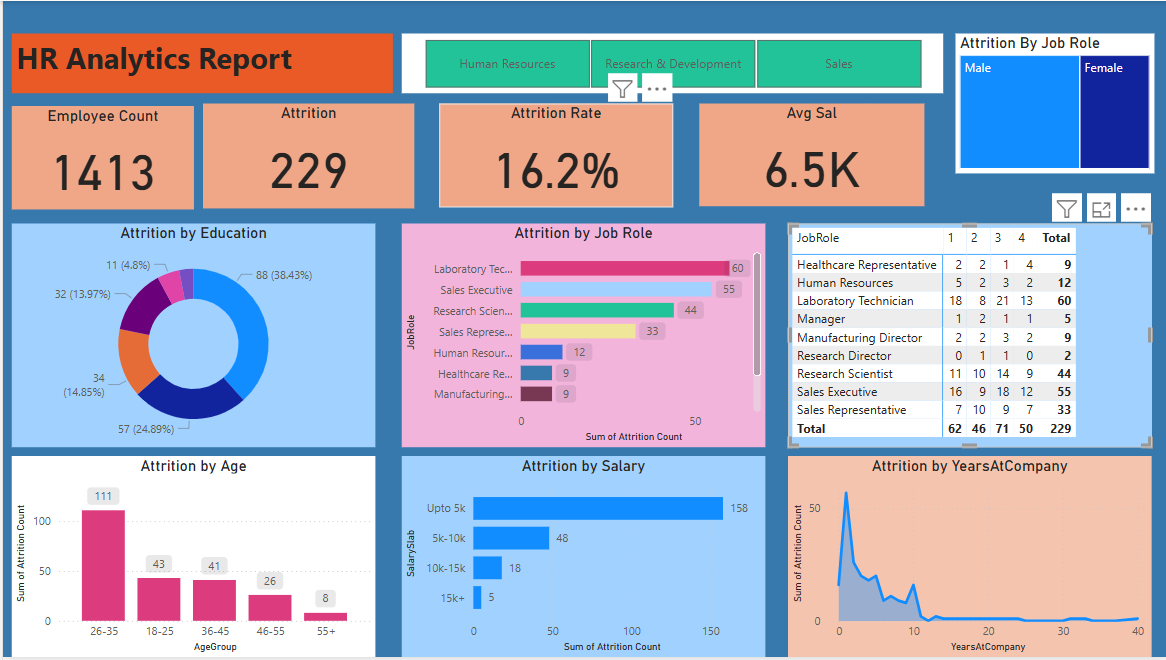

Layout of this report page (visuals, bound fields, positions):
{"tool":"powerbi","page":{"name":"Page 1","canvas":[1280,720],"ordinal":0},"visuals":[{"type":"textbox","box":[9.6,35.7,418.5,65.9],"z":0},{"type":"slicer","fields":{"Values":["HR_Analytics.Department"]},"box":[437.7,35.7,594.2,65.9],"z":1000},{"type":"treemap","title":"Attrition By Job Role","fields":{"Group":["HR_Analytics.Gender"],"Values":["Sum(HR_Analytics.Attrition Count)"]},"box":[1045.6,35.7,218.2,153.7],"z":2000},{"type":"card","title":"Employee Count","fields":{"Values":["Sum(HR_Analytics.EmployeeCount)"]},"box":[9.6,115.3,200.3,113.9],"z":3000},{"type":"card","title":"Attrition ","fields":{"Values":["Sum(HR_Analytics.Attrition Count)"]},"box":[219.6,112.5,231.9,115.3],"z":4000},{"type":"card","title":"Attrition Rate","fields":{"Values":["HR_Analytics.Attrition Rate"]},"box":[478.9,112.5,256.6,113.9],"z":5000},{"type":"card","title":"Avg Sal","fields":{"Values":["Avg(HR_Analytics.MonthlyIncome)"]},"box":[764.3,112.5,247,112.5],"z":6000},{"type":"donutChart","title":"Attrition by Education","fields":{"Y":["Sum(HR_Analytics.Attrition Count)"],"Category":["HR_Analytics.EducationField"]},"box":[9.6,244.3,399.3,245.6],"z":7000},{"type":"barChart","title":"Attrition by Job Role","fields":{"Y":["Sum(HR_Analytics.Attrition Count)"],"Category":["HR_Analytics.JobRole"]},"box":[437.7,244.3,399.3,245.6],"z":8000},{"type":"pivotTable","fields":{"Rows":["HR_Analytics.JobRole"],"Columns":["HR_Analytics.JobSatisfaction"],"Values":["Sum(HR_Analytics.Attrition Count)"]},"box":[861.8,244.3,399.3,245.6],"z":9000},{"type":"columnChart","title":"Attrition by Age","fields":{"Category":["HR_Analytics.AgeGroup"],"Y":["Sum(HR_Analytics.Attrition Count)"]},"box":[9.6,499.5,399.3,220.9],"z":10000},{"type":"clusteredBarChart","title":"Attrition by Salary","fields":{"Category":["HR_Analytics.SalarySlab"],"Y":["Sum(HR_Analytics.Attrition Count)"]},"box":[438,499,399,221],"z":11000},{"type":"areaChart","title":"Attrition by YearsAtCompany","fields":{"Category":["HR_Analytics.YearsAtCompany"],"Y":["Sum(HR_Analytics.Attrition Count)"]},"box":[862,499,399,221],"z":12000}]}

Visuals, with their boxes in screenshot pixels (x1, y1, x2, y2), scaled from the page's 1280x720 canvas onto the 1166x660 screenshot:
textbox: BBox(9, 33, 390, 93)
slicer - HR_Analytics.Department: BBox(399, 33, 940, 93)
"Attrition By Job Role" treemap: BBox(952, 33, 1151, 174)
"Employee Count" card: BBox(9, 106, 191, 210)
"Attrition " card: BBox(200, 103, 411, 209)
"Attrition Rate" card: BBox(436, 103, 670, 208)
"Avg Sal" card: BBox(696, 103, 921, 206)
"Attrition by Education" donutChart: BBox(9, 224, 372, 449)
"Attrition by Job Role" barChart: BBox(399, 224, 762, 449)
pivotTable - HR_Analytics.JobRole x HR_Analytics.JobSatisfaction: BBox(785, 224, 1149, 449)
"Attrition by Age" columnChart: BBox(9, 458, 372, 659)
"Attrition by Salary" clusteredBarChart: BBox(399, 457, 762, 659)
"Attrition by YearsAtCompany" areaChart: BBox(785, 457, 1149, 659)
